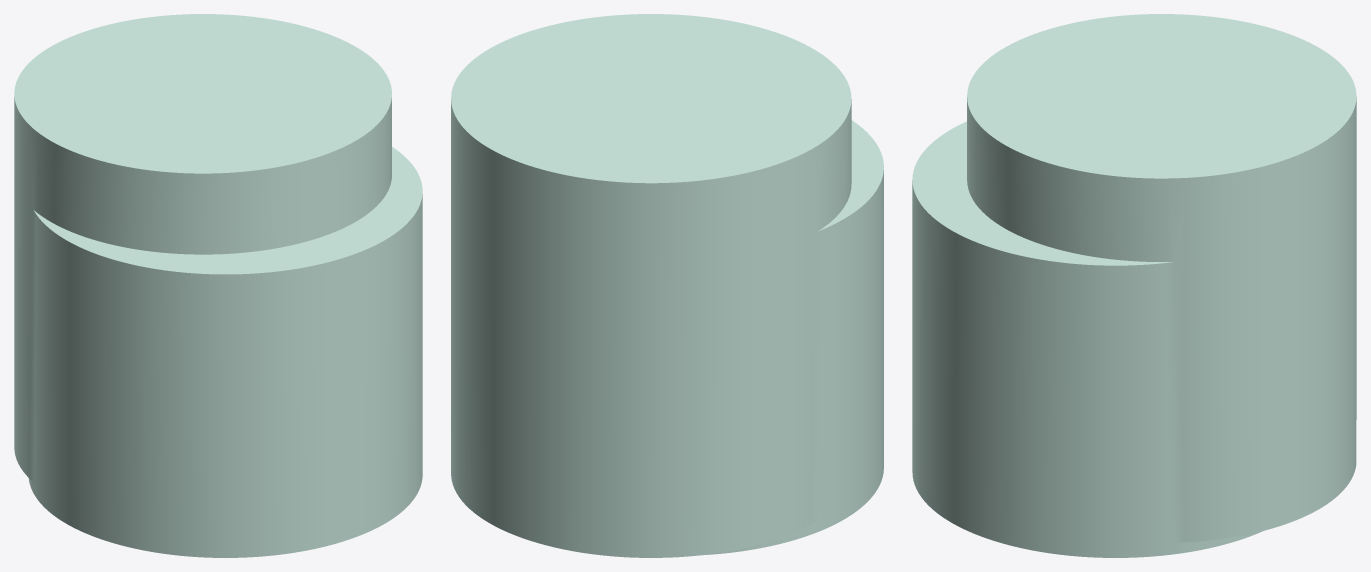
3 renders of one model, left to right at view 1: azimuth 30°, elevation 25°; view 2: azimuth 150°, elevation 25°; view 3: azimuth 270°, elevation 25°, orthographic. The views are drawn at different scales.
Parts seen in each view (by area): view 1: Renderer Node; view 2: Renderer Node; view 3: Renderer Node.
Boxes of the visible parts, x1,y1,x2,y2 form: Renderer Node: (14,14,422,557); Renderer Node: (451,14,883,557); Renderer Node: (912,14,1356,557).
Size of the model in its own units: 0.7579 by 0.7734 by 0.8282.
